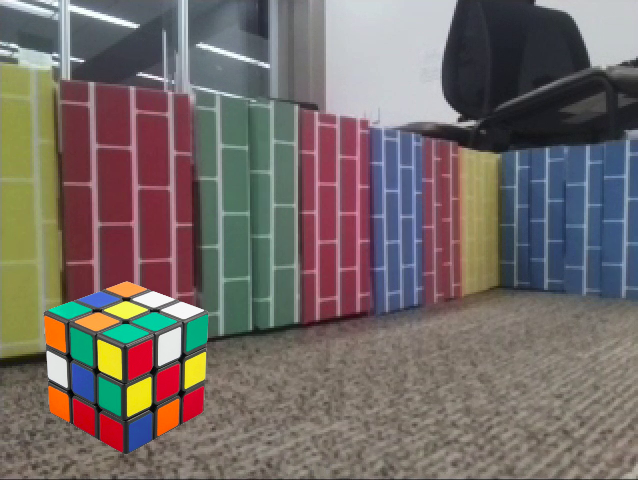cube: (43, 281, 209, 455)
